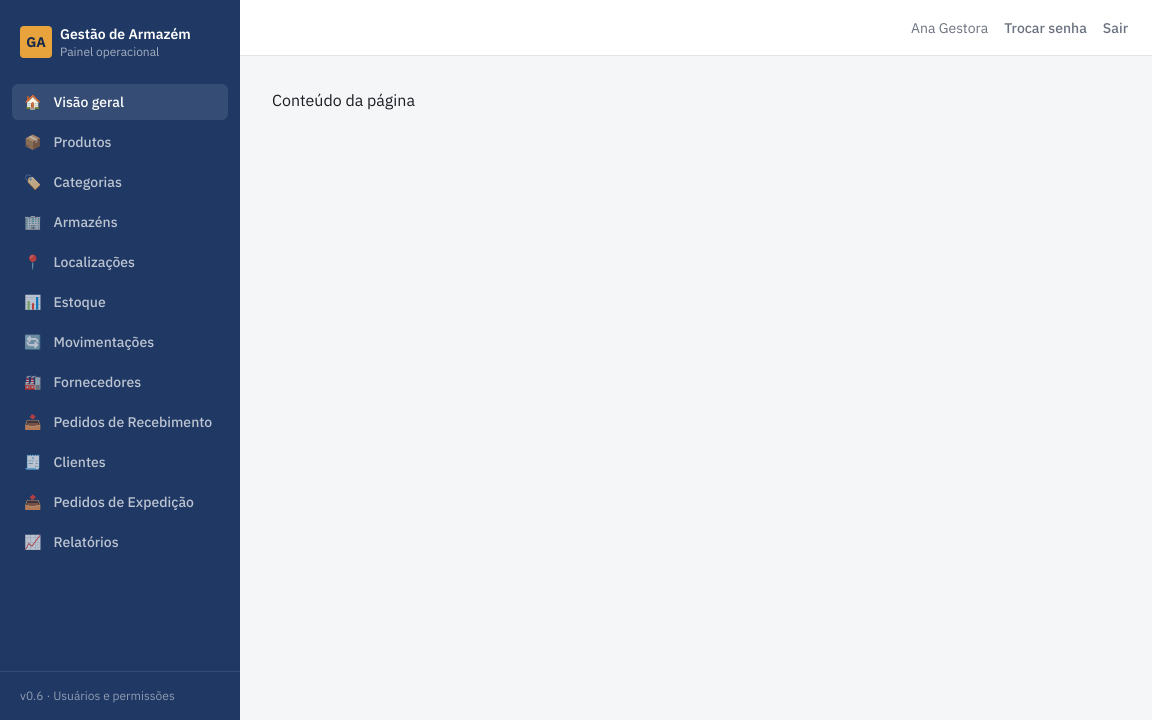
Test: AppShell › clicar em 'Sair' desloga o usuário (limpa o token)
Expected: the text "Ana Gestora" is shown, 911,18 -> 988,38
Click the button "Sair" at (1115, 28), box 1103,18 -> 1128,38
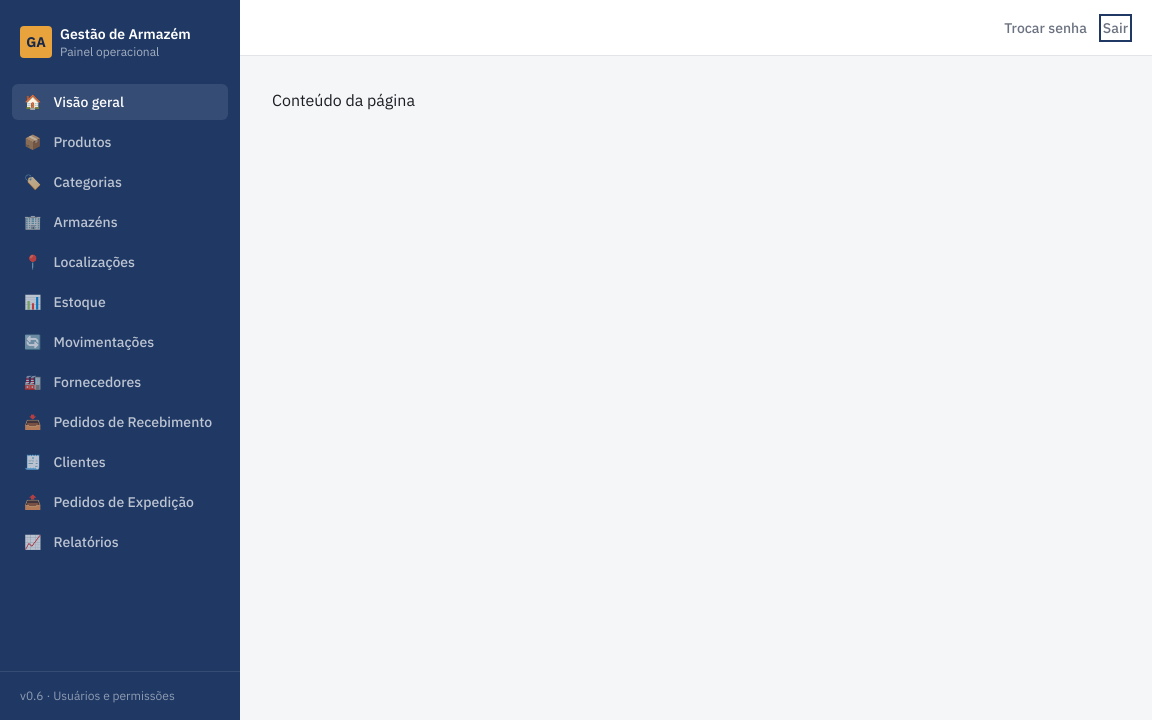
Expected: the text "Ana Gestora" is gone
